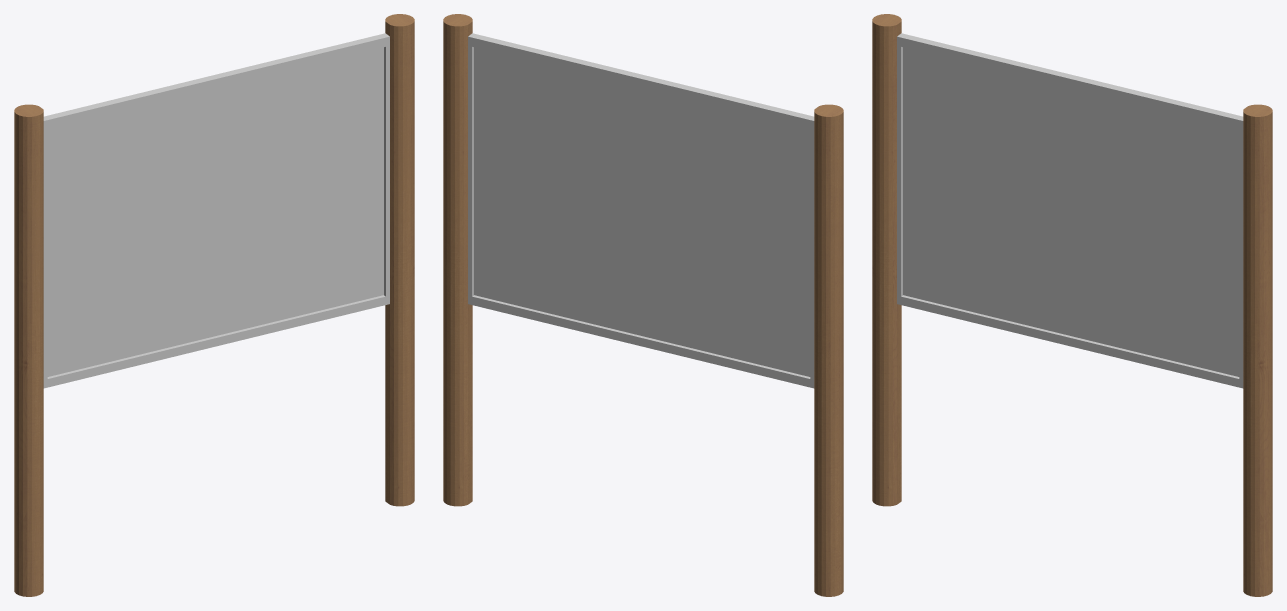
Rendered from WelcomBoard.fbx.
3 renders of one model, left to right at view 1: azimuth 30°, elevation 25°; view 2: azimuth 150°, elevation 25°; view 3: azimuth 330°, elevation 25°, orthographic.
Visible parts, largest first — view 1: Cylinder.003; view 2: Cylinder.003; view 3: Cylinder.003.
Part boxes in pixels (x1,y1,x2,y2): Cylinder.003: (14, 14, 414, 596); Cylinder.003: (443, 14, 843, 596); Cylinder.003: (872, 14, 1272, 596).
Size of the model in its own units: 1380 by 1596 by 89.41.
